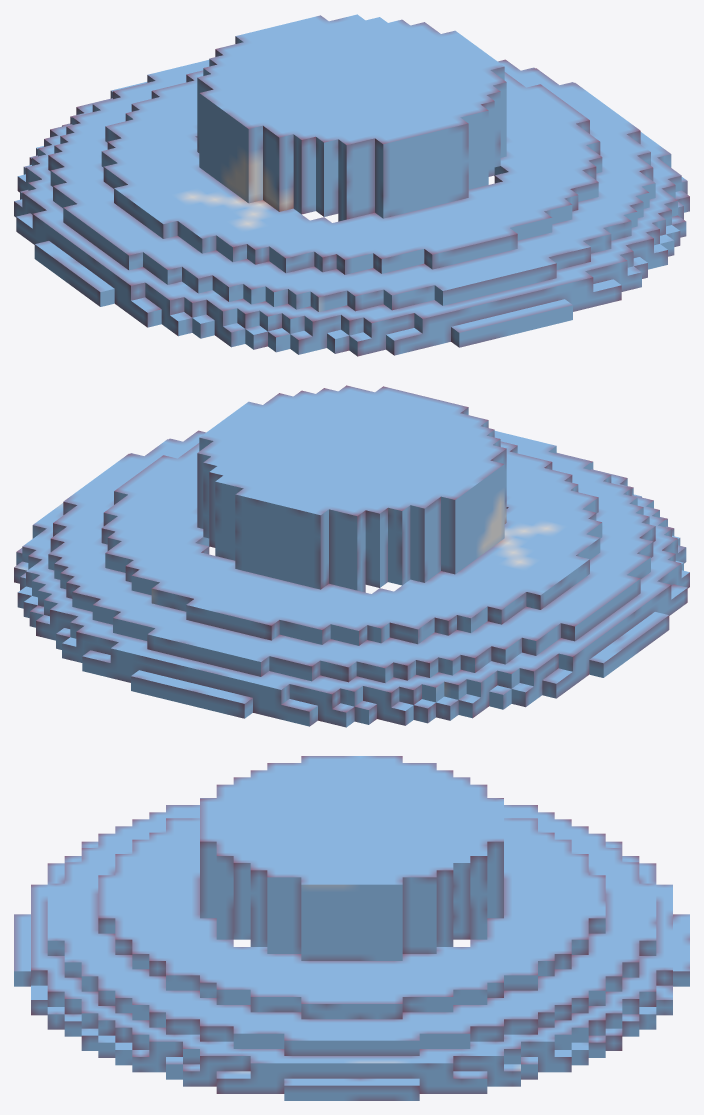
The model's file is Southeast Asian Straw Hat_84.obj.
3 views of the same model, one above another, from view 1: azimuth 30°, elevation 25°; view 2: azimuth 150°, elevation 25°; view 3: azimuth 270°, elevation 25° (orthographic). The views are drawn at different scales.
Visible parts, largest first — view 1: Southeast_Asian_Straw_Hat_84; view 2: Southeast_Asian_Straw_Hat_84; view 3: Southeast_Asian_Straw_Hat_84.
Boxes of the visible parts, bbox=[...] form: Southeast_Asian_Straw_Hat_84: bbox=[14, 14, 689, 356]; Southeast_Asian_Straw_Hat_84: bbox=[14, 385, 689, 727]; Southeast_Asian_Straw_Hat_84: bbox=[14, 756, 689, 1100].
Bounding box in the file's own units: 4 × 0.9 × 4.
Materials: 1 (1 with a texture image).
